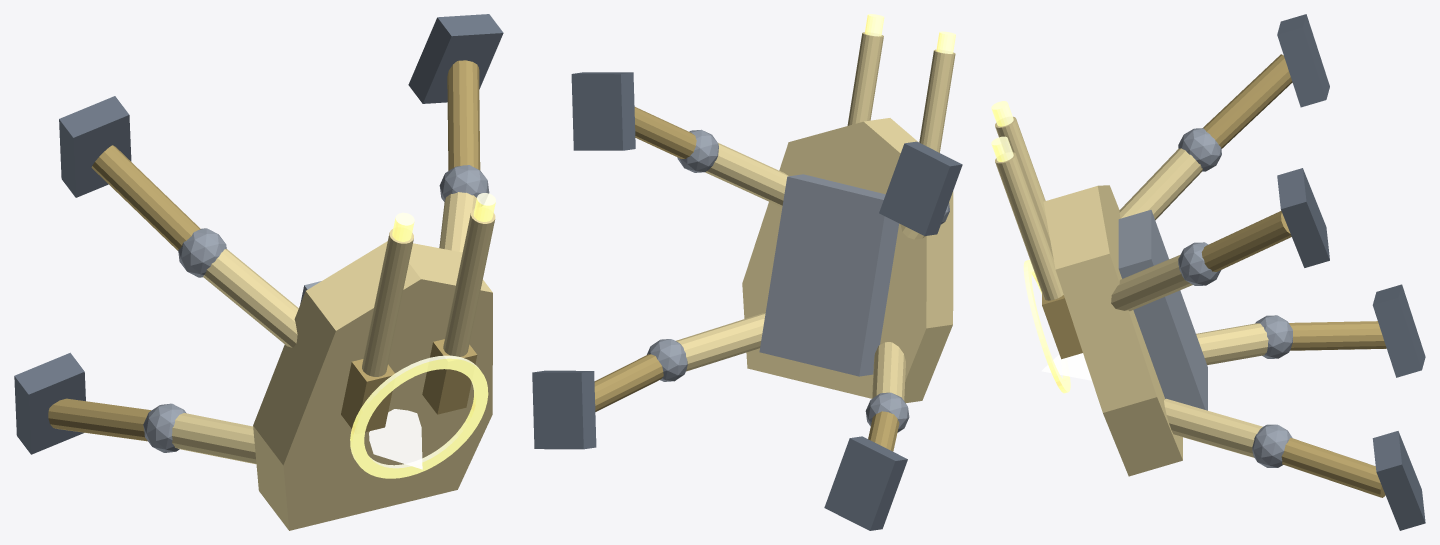
Rendered from helias_skystrider.glb.
3 renders of one model, left to right at view 1: azimuth 30°, elevation 25°; view 2: azimuth 150°, elevation 25°; view 3: azimuth 270°, elevation 25°, orthographic. The views are drawn at different scales.
Parts seen in each view (by area): view 1: high_chassis_000, walker_foot_021, thermal_charge_029, walker_foot_016, walker_foot_006, upper_leg_013, lower_leg_014, thermal_lance_024, thermal_lance_027, lower_leg_019, upper_leg_003, lower_leg_004 (+7 smaller); view 2: underbody_001, high_chassis_000, walker_foot_006, walker_foot_016, walker_foot_011, walker_foot_021, upper_leg_008, upper_leg_018, thermal_lance_024, lower_leg_009, thermal_lance_027, lower_leg_019 (+5 smaller); view 3: high_chassis_000, underbody_001, thermal_lance_027, walker_foot_011, walker_foot_021, upper_leg_008, walker_foot_016, walker_foot_006, lower_leg_014, lower_leg_009, upper_leg_013, lower_leg_004 (+11 smaller).
Boxes of the visible parts, box(x1,y1,x2,y2) form: high_chassis_000: box(253, 241, 492, 530); walker_foot_021: box(408, 14, 503, 103); thermal_charge_029: box(350, 355, 488, 478); walker_foot_016: box(59, 96, 131, 197); walker_foot_006: box(14, 352, 85, 454); upper_leg_013: box(203, 249, 298, 347); lower_leg_014: box(91, 145, 200, 250); thermal_lance_024: box(362, 228, 413, 376); thermal_lance_027: box(443, 209, 495, 356); lower_leg_019: box(447, 60, 480, 170); upper_leg_003: box(172, 413, 256, 464); lower_leg_004: box(48, 398, 151, 441); underbody_001: box(759, 174, 899, 376); high_chassis_000: box(742, 118, 953, 402); walker_foot_006: box(824, 436, 907, 530); walker_foot_016: box(879, 141, 962, 235); walker_foot_011: box(532, 370, 596, 449); walker_foot_021: box(571, 72, 635, 150); upper_leg_008: box(676, 313, 765, 371); upper_leg_018: box(705, 143, 788, 206); thermal_lance_024: box(919, 49, 955, 152); lower_leg_009: box(594, 354, 663, 411); thermal_lance_027: box(847, 32, 883, 125); lower_leg_019: box(634, 107, 696, 158); high_chassis_000: box(1043, 185, 1182, 476); underbody_001: box(1118, 210, 1207, 410); thermal_lance_027: box(995, 152, 1063, 300); walker_foot_011: box(1372, 431, 1425, 530); walker_foot_021: box(1277, 168, 1329, 267); upper_leg_008: box(1164, 398, 1262, 457); walker_foot_016: box(1277, 14, 1329, 107); walker_foot_006: box(1372, 284, 1425, 377); lower_leg_014: box(1202, 54, 1292, 148); lower_leg_009: box(1281, 438, 1385, 497); upper_leg_013: box(1119, 148, 1202, 220); lower_leg_004: box(1289, 321, 1386, 350).
Bounding box in the file's own units: 4.11 × 3.58 × 4.02.
